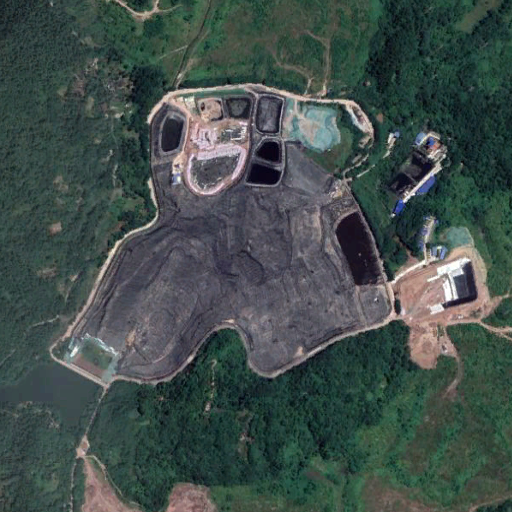lf: (75, 86, 389, 375)
